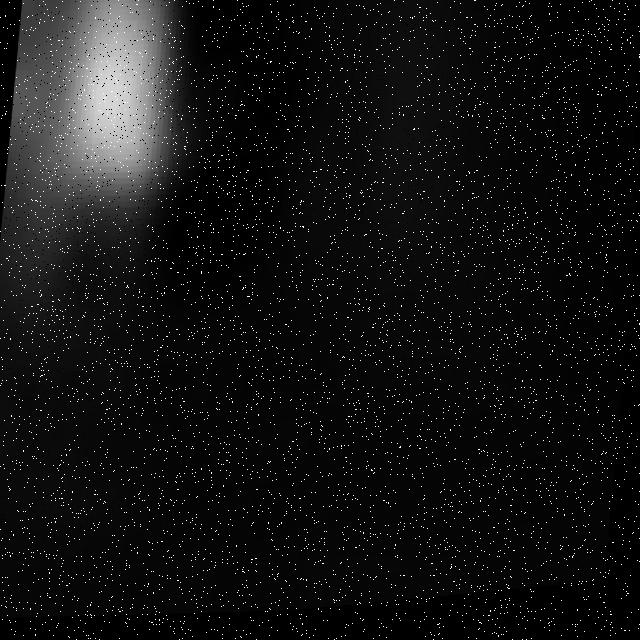person: (21, 1, 229, 317)
